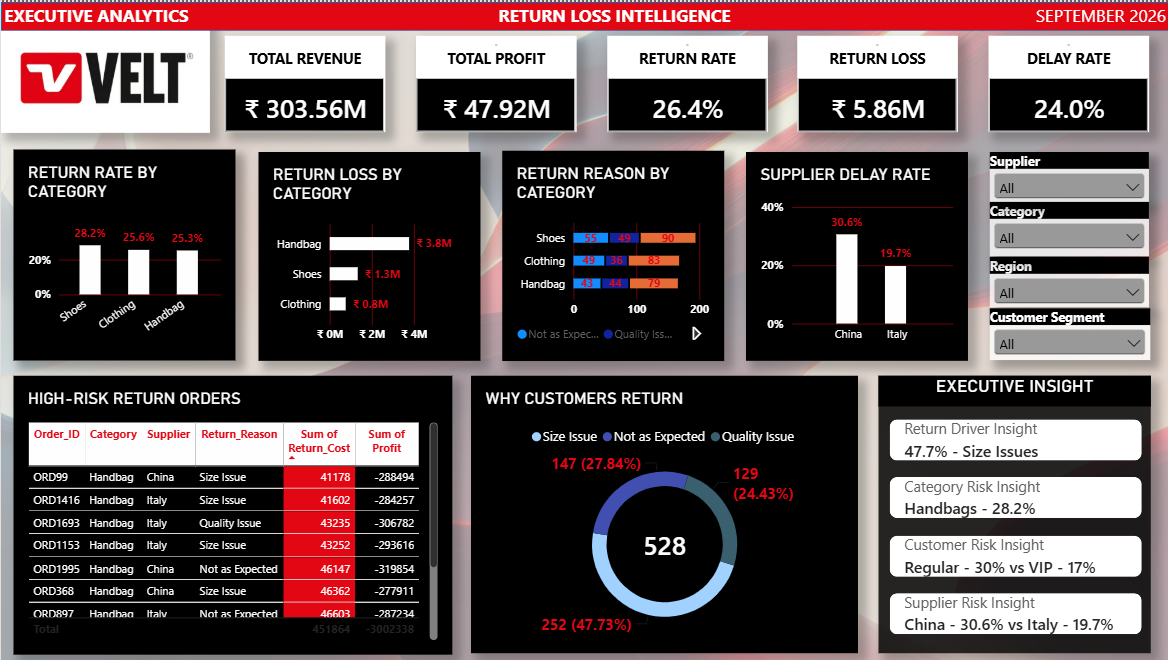

The page's visual inventory and layout, read from the dashboard file:
{"tool":"powerbi","page":{"name":"Page 2","canvas":[1280,720],"ordinal":0},"visuals":[{"type":"image","box":[0,18.6,228.6,124.3],"z":0},{"type":"shape","box":[0,0,1280.3,31.5],"z":1000},{"type":"textbox","box":[0,1.4,1280,88.6],"z":2000},{"type":"cardVisual","title":".","fields":{"Data":["VELT.Total Revenue"]},"box":[245.7,37.1,175.7,105.7],"z":2000,"group":"g1"},{"type":"cardVisual","title":".","fields":{"Data":["VELT.Total Profit"]},"box":[455,37.1,175.7,105.7],"z":3000,"group":"g1"},{"type":"clusteredColumnChart","title":"RETURN RATE BY CATEGORY","fields":{"Category":["VELT.Category"],"Y":["VELT.Return Rate"]},"box":[14.3,161.4,242.9,231.4],"z":3000},{"type":"clusteredBarChart","title":"RETURN LOSS BY CATEGORY","fields":{"Category":["VELT.Category"],"Y":["VELT.Return loss"]},"box":[281.7,164.1,242.9,228.6],"z":4000},{"type":"slicer","title":"Region","fields":{"Values":["VELT.Region"]},"box":[1084.3,279.2,174.3,55],"z":4000,"group":"g2"},{"type":"cardVisual","title":".","fields":{"Data":["VELT.Return Rate"]},"box":[664.3,37.1,175.7,105.7],"z":5000,"group":"g1"},{"type":"donutChart","title":"WHY CUSTOMERS RETURN","fields":{"Category":["VELT.Return_Reason"],"Y":["VELT.Returned Orders"]},"box":[515,409.5,424.3,304.3],"z":5000},{"type":"barChart","title":"RETURN REASON BY CATEGORY","fields":{"Category":["VELT.Category"],"Series":["VELT.Return_Reason"],"Y":["VELT.Returned Orders"]},"box":[549.1,162.9,242.9,230],"z":6000},{"type":"slicer","title":"Category","fields":{"Values":["VELT.Category"]},"box":[1084.3,219,174.3,59.3],"z":6000,"group":"g2"},{"type":"cardVisual","title":".","fields":{"Data":["VELT.Return loss"]},"box":[873.6,37.1,175.7,105.7],"z":7000,"group":"g1"},{"type":"columnChart","title":"SUPPLIER DELAY RATE","fields":{"Category":["VELT.Supplier"],"Y":["VELT.Delay Rate"]},"box":[816.5,164,242.9,228.6],"z":7000},{"type":"slicer","title":"Supplier","fields":{"Values":["VELT.Supplier"]},"box":[1083.9,163.8,174.3,54.3],"z":8000,"group":"g2"},{"type":"tableEx","title":"HIGH-RISK RETURN ORDERS","fields":{"Values":["VELT.Order_ID","VELT.Category","VELT.Supplier","VELT.Return_Reason","Sum(VELT.Return_Cost)","Sum(VELT.Profit)"]},"box":[13.7,409.5,480.7,305.4],"z":8000},{"type":"group","id":"g1","title":"Group 1","box":[245.7,37.1,1012.9,105.7],"z":9000},{"type":"cardVisual","title":".","fields":{"Data":["VELT.Delay Rate"]},"box":[1082.8,37.1,175.7,105.7],"z":9000,"group":"g1"},{"type":"group","id":"g2","title":"Group 2","box":[1083.9,163.8,176.1,227.8],"z":10000},{"type":"slicer","title":"Customer Segment","fields":{"Values":["VELT.Customer_Segment"]},"box":[1084.3,335.1,175.7,56.4],"z":10000,"group":"g2"},{"type":"textbox","box":[1059,164,221,229],"z":11000},{"type":"textbox","title":"EXECUTIVE INSIGHT","box":[961.4,409.5,298.6,304],"z":12000},{"type":"textbox","box":[100,100,300,300],"z":13000},{"type":"textbox","box":[100,143.8,299.9,256.1],"z":14000},{"type":"cardVisual","fields":{"Data":["VELT.Return Driver Insight"]},"box":[973.8,457.4,276.7,45.2],"z":15000},{"type":"cardVisual","fields":{"Data":["VELT.Category Risk Insight"]},"box":[973.8,520.4,276.7,45.2],"z":16000},{"type":"cardVisual","fields":{"Data":["VELT.Customer Risk Insight"]},"box":[973.8,584.8,276.7,45.2],"z":17000},{"type":"cardVisual","fields":{"Data":["VELT.Supplier Risk Insight"]},"box":[973.8,647.8,276.7,45.2],"z":18000}]}

Visuals, with their boxes in screenshot pixels (x1, y1, x2, y2), scaled from the page's 1280x720 canvas onto the 1168x660 screenshot:
image: 0, 17, 209, 131
shape: 0, 0, 1167, 29
textbox: 0, 1, 1167, 82
"." cardVisual: 224, 34, 385, 131
"." cardVisual: 415, 34, 576, 131
"RETURN RATE BY CATEGORY" clusteredColumnChart: 13, 148, 235, 360
"RETURN LOSS BY CATEGORY" clusteredBarChart: 257, 150, 479, 360
"Region" slicer: 989, 256, 1148, 306
"." cardVisual: 606, 34, 766, 131
"WHY CUSTOMERS RETURN" donutChart: 470, 375, 857, 654
"RETURN REASON BY CATEGORY" barChart: 501, 149, 723, 360
"Category" slicer: 989, 201, 1148, 255
"." cardVisual: 797, 34, 957, 131
"SUPPLIER DELAY RATE" columnChart: 745, 150, 967, 360
"Supplier" slicer: 989, 150, 1148, 200
"HIGH-RISK RETURN ORDERS" tableEx: 13, 375, 451, 655
"Group 1" group: 224, 34, 1148, 131
"." cardVisual: 988, 34, 1148, 131
"Group 2" group: 989, 150, 1150, 359
"Customer Segment" slicer: 989, 307, 1150, 359
textbox: 966, 150, 1167, 360
"EXECUTIVE INSIGHT" textbox: 877, 375, 1150, 654
textbox: 91, 92, 365, 367
textbox: 91, 132, 365, 367
cardVisual - VELT.Return Driver Insight: 889, 419, 1141, 461
cardVisual - VELT.Category Risk Insight: 889, 477, 1141, 518
cardVisual - VELT.Customer Risk Insight: 889, 536, 1141, 578
cardVisual - VELT.Supplier Risk Insight: 889, 594, 1141, 635
